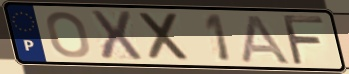1: (203, 12, 232, 64)
A: (240, 13, 294, 66)
F: (280, 13, 327, 67)
O: (44, 9, 93, 59)
X: (87, 8, 145, 62), (136, 10, 193, 63)
